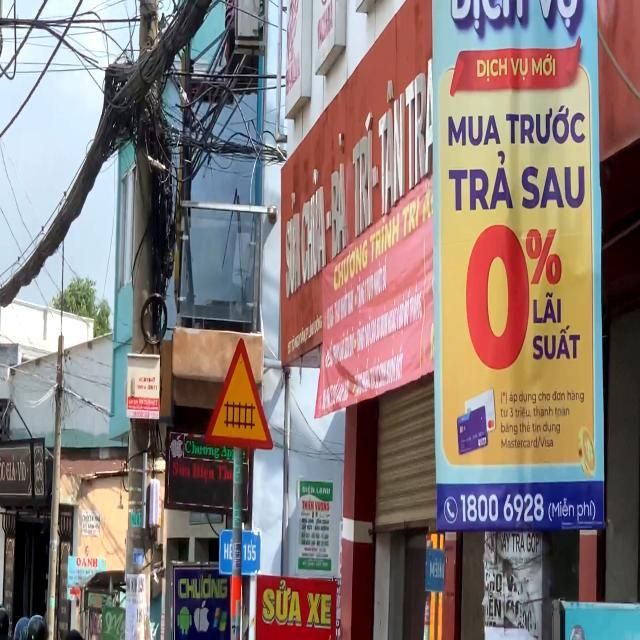W-210: (201, 336, 273, 451)
